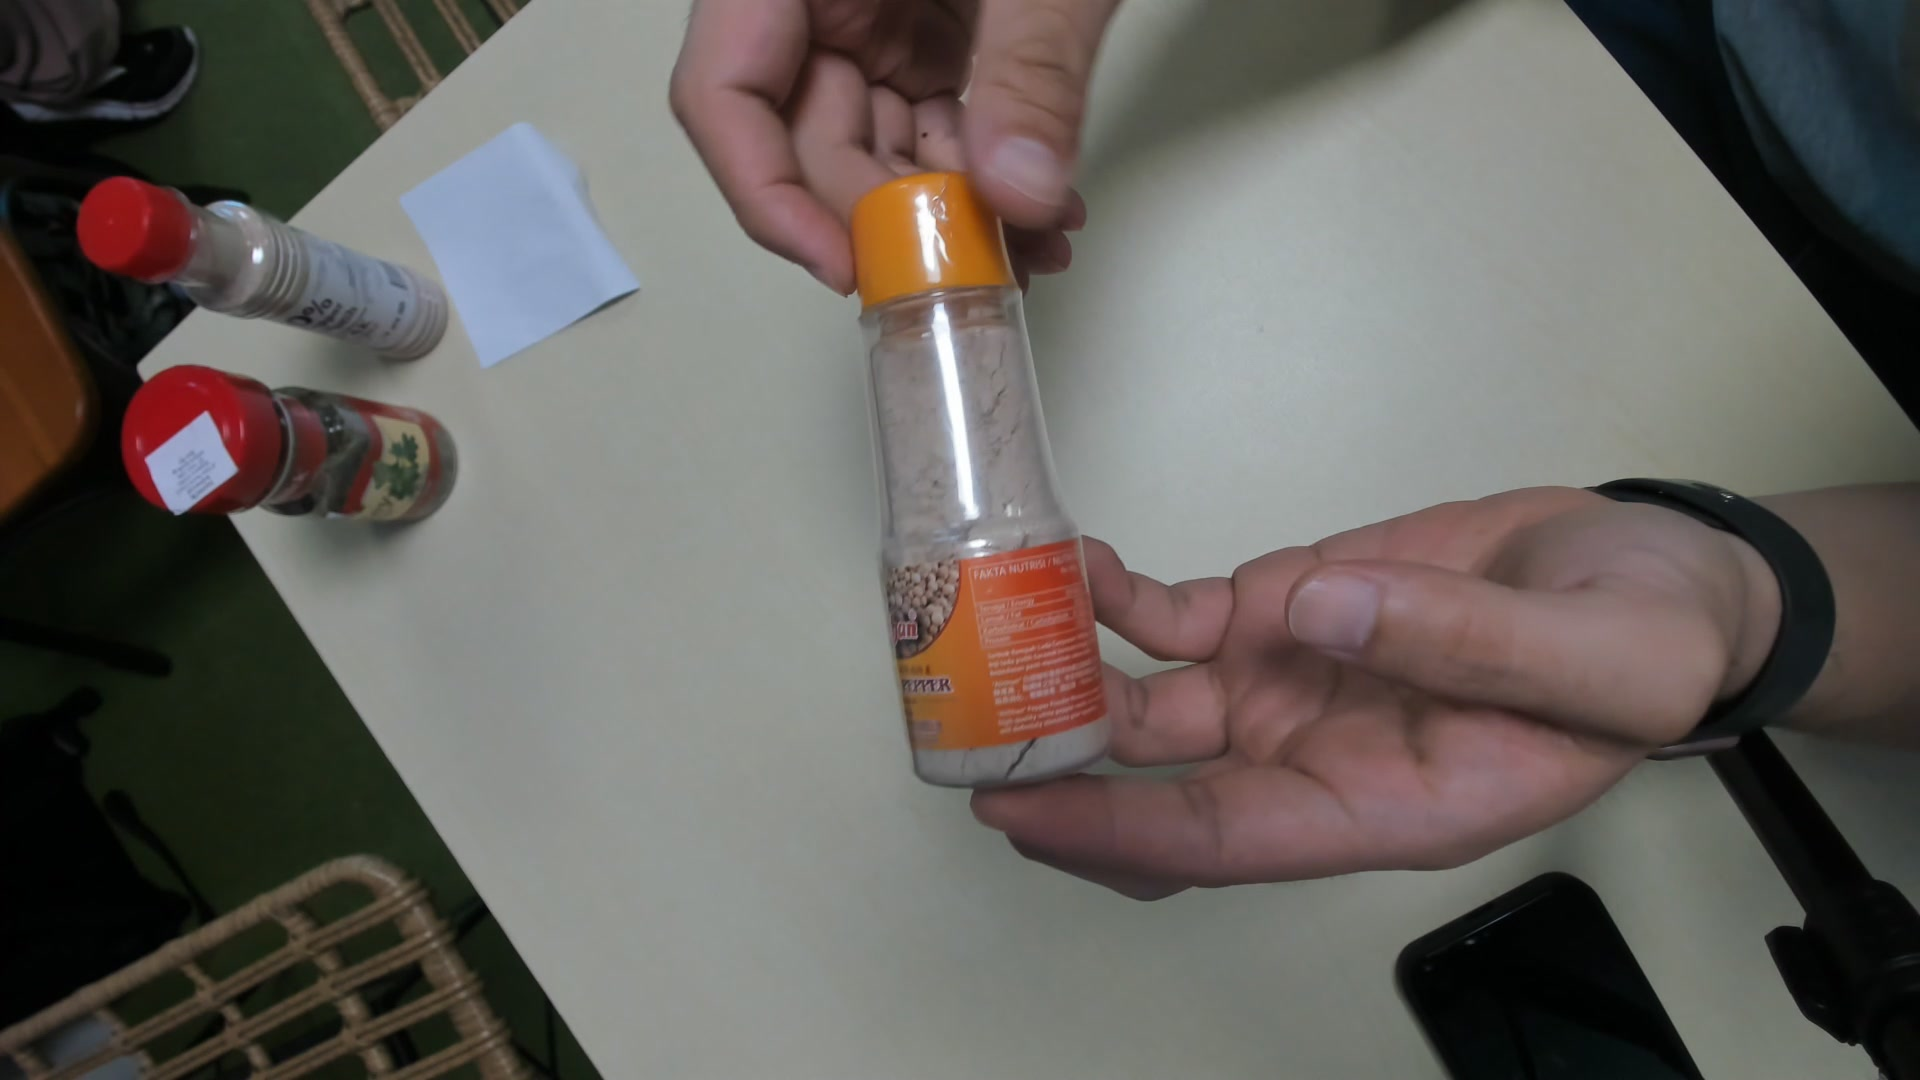HerbsSpicesPepper_400-499g_Halal_NonHealthy: (855, 179, 1113, 782)
